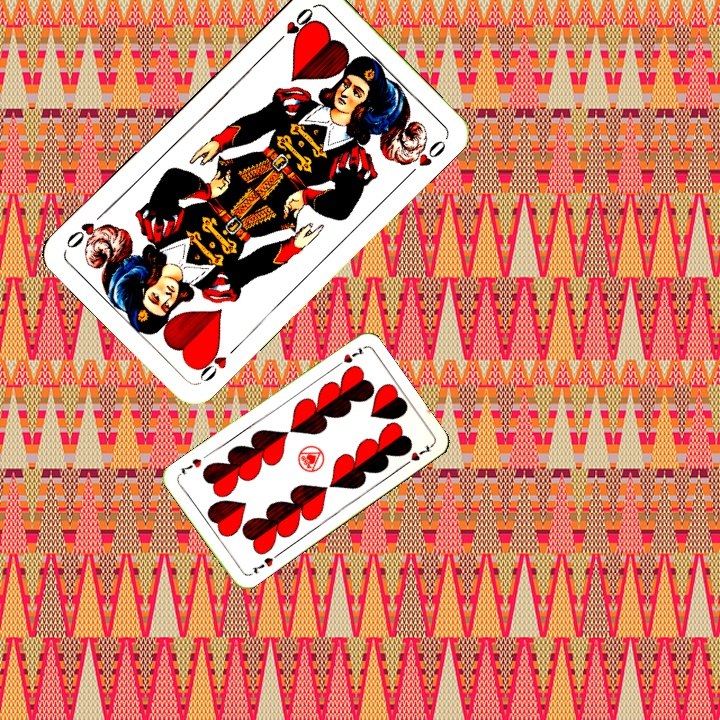H7: (331, 343, 366, 371), (248, 553, 276, 576)
HO: (191, 340, 242, 385), (270, 4, 316, 48)
